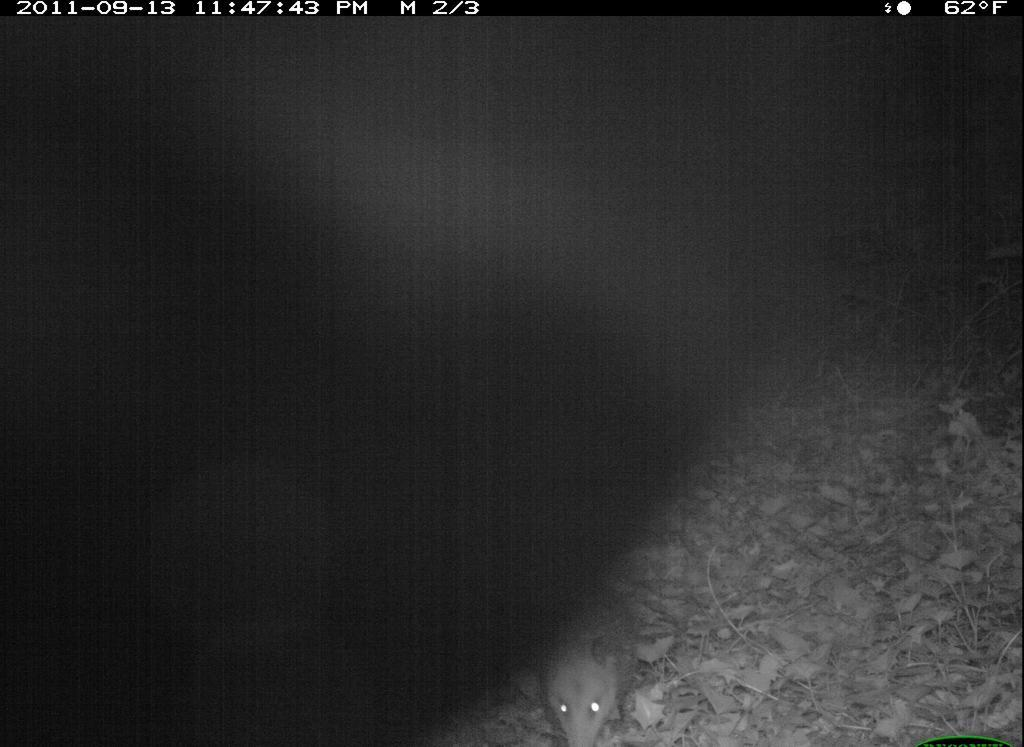opossum: (524, 569, 648, 747)
